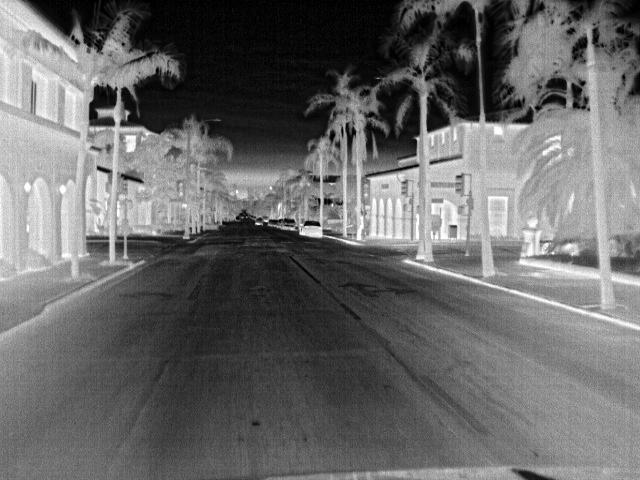car: (297, 220, 324, 238), (281, 220, 300, 232), (268, 218, 280, 228), (256, 217, 266, 228)
person: (356, 211, 368, 242)
